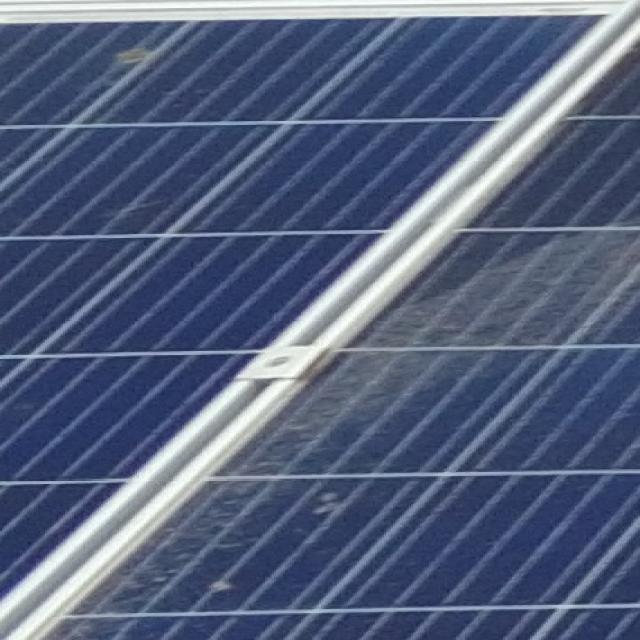Dust: (149, 202, 640, 640)
bird-droppings: (104, 42, 161, 69), (312, 486, 354, 521), (203, 573, 246, 599)
